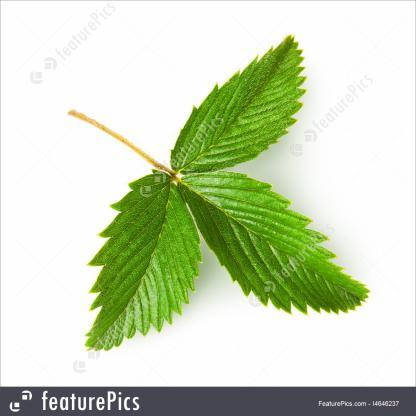Strawberry leaf: (184, 172, 378, 322), (72, 164, 214, 352), (166, 25, 312, 176)
